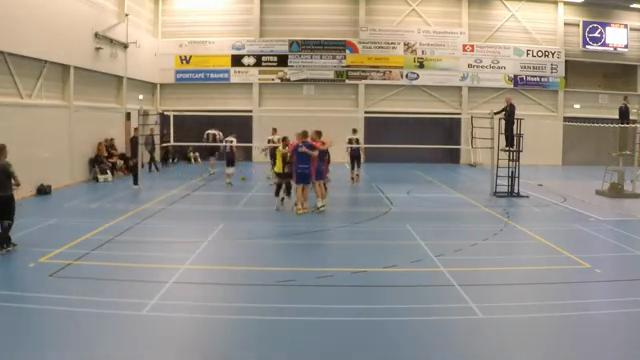Player: (291, 130, 315, 213), (273, 136, 292, 210), (311, 130, 327, 210), (203, 129, 223, 173), (347, 128, 361, 183), (265, 127, 280, 177), (223, 134, 237, 186)
